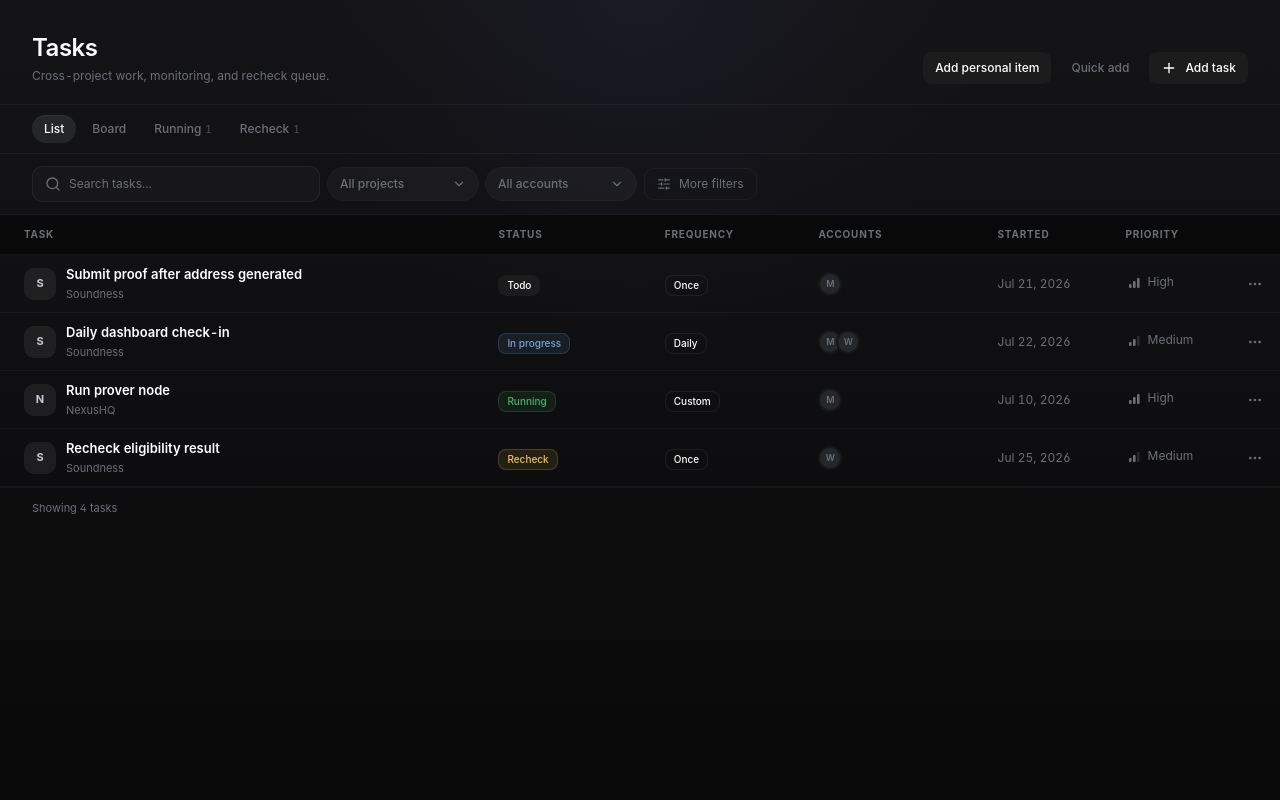
Test: TasksPreview › opens the full Add Task modal and creates a linked Deadline
Click the button "Add task" at (1199,68), box [1149,52,1248,84]
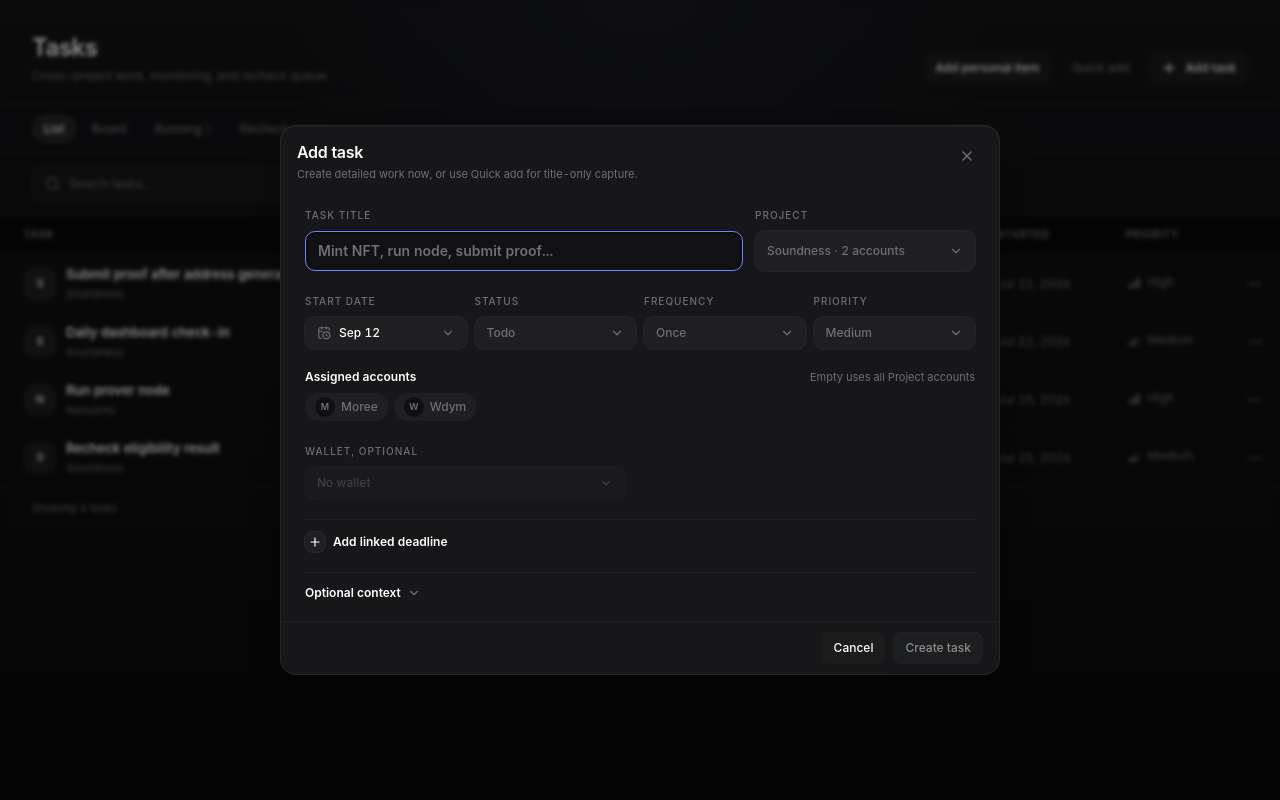
Expected: the dialog "Add task" is shown
Expected: the button with aria-label "Project" is shown, [755,230,975,270]
Type "Mint allowlist NFT" into the field with placeholder "Mint NFT, run node, submit proof..." at (524,250), box [305,230,743,270]
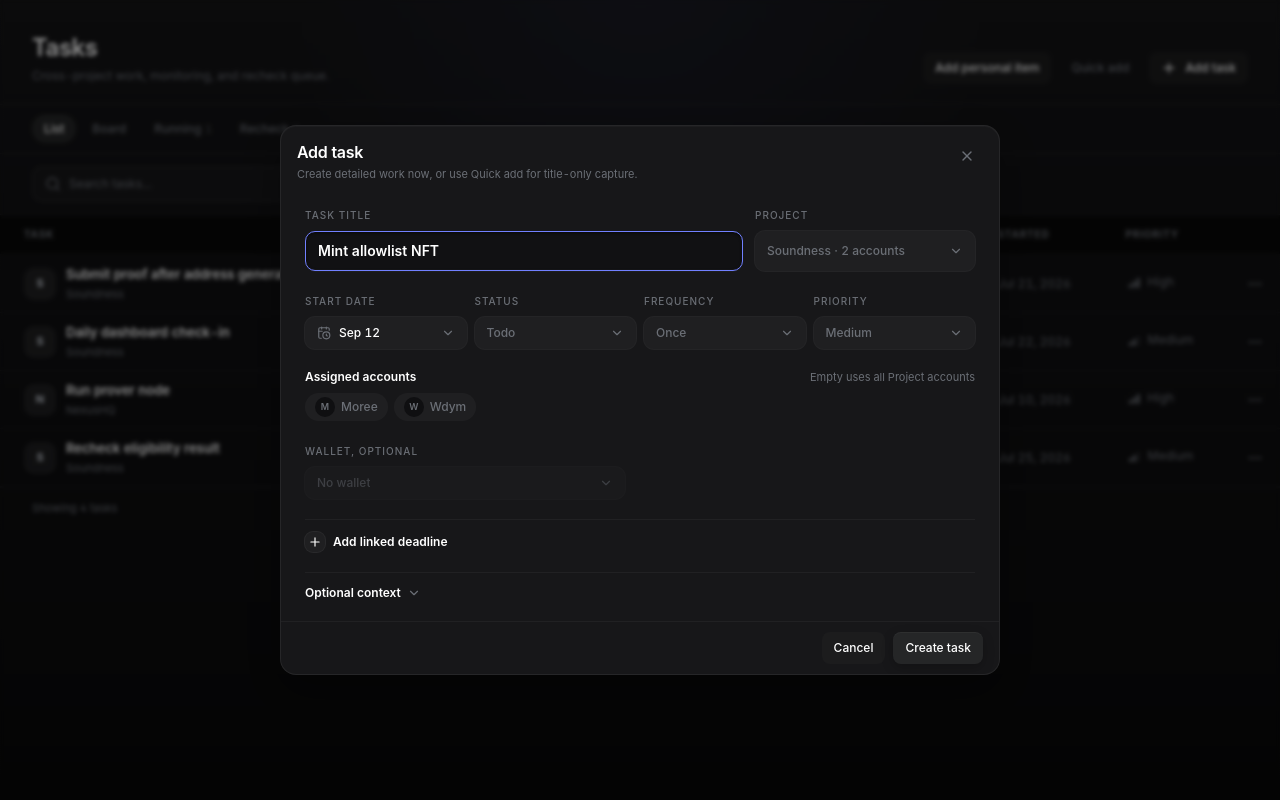
Click the button "Add linked deadline" at (376,542), box [305,532,448,552]
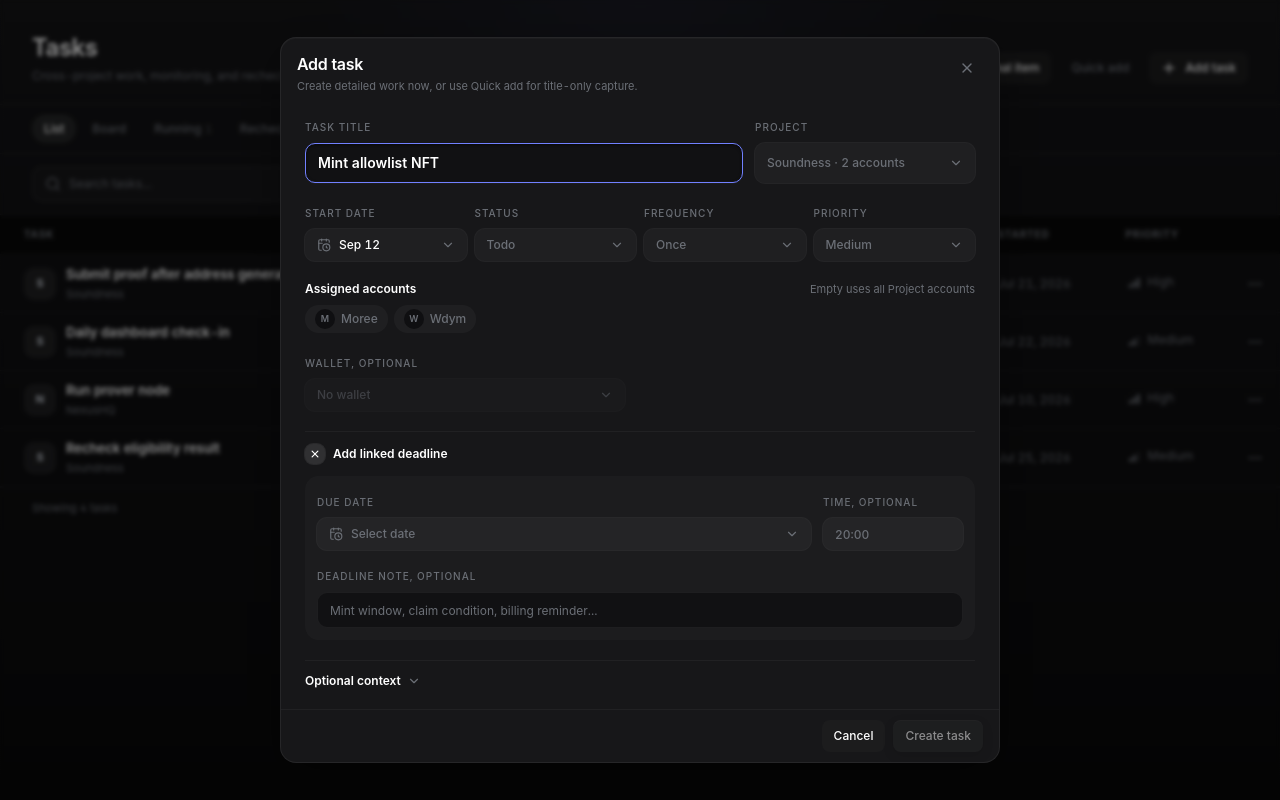
Click the button with aria-label "Due date" at (383,534), box [317,518,811,550]
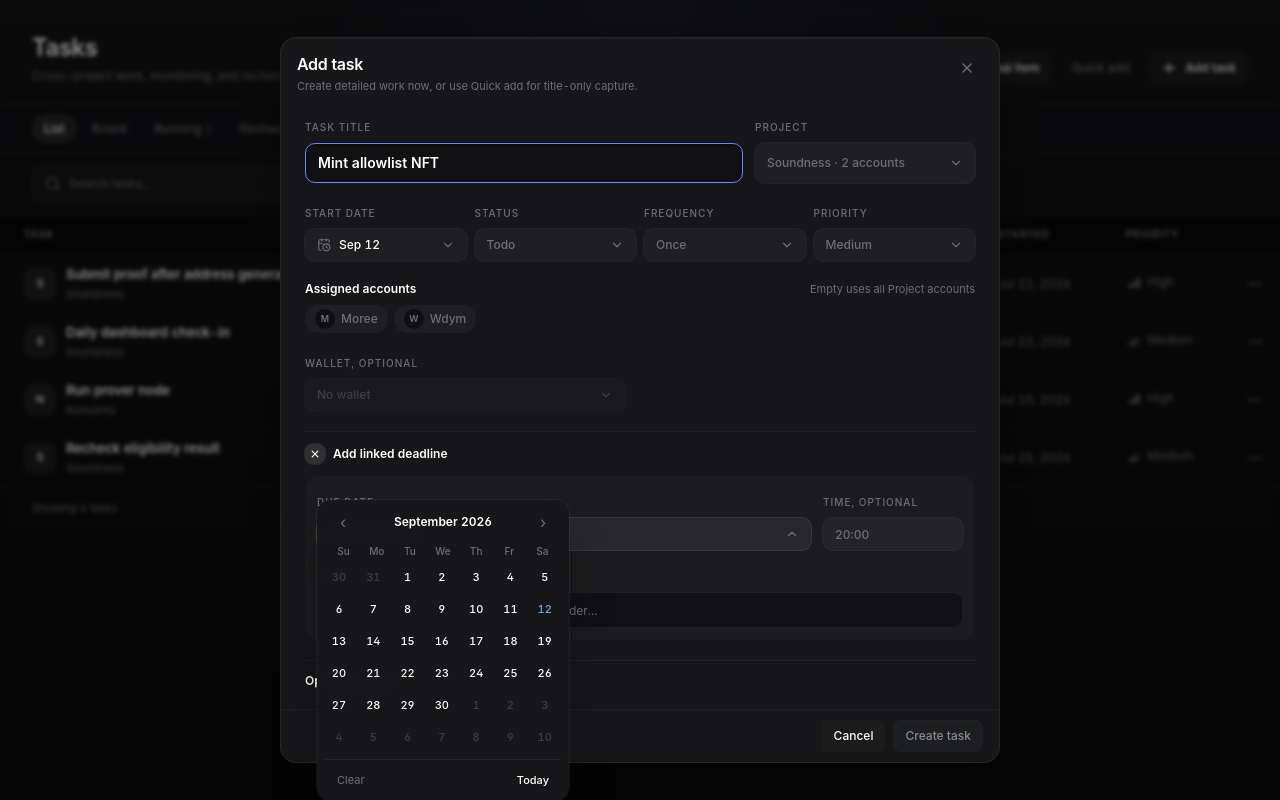
Click the button "Today" at (533,780), box [509,768,557,792]
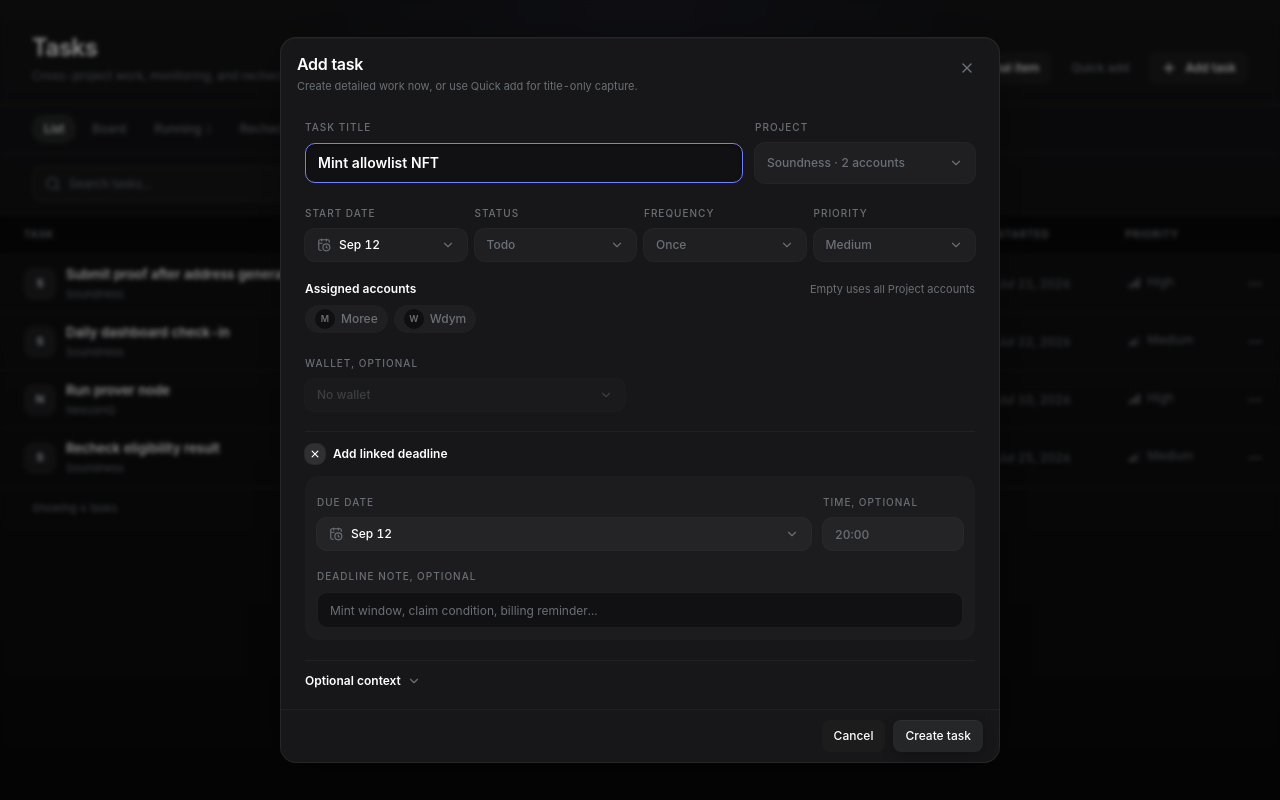
Click the button "Create task" at (938,736), box [893,720,983,752]
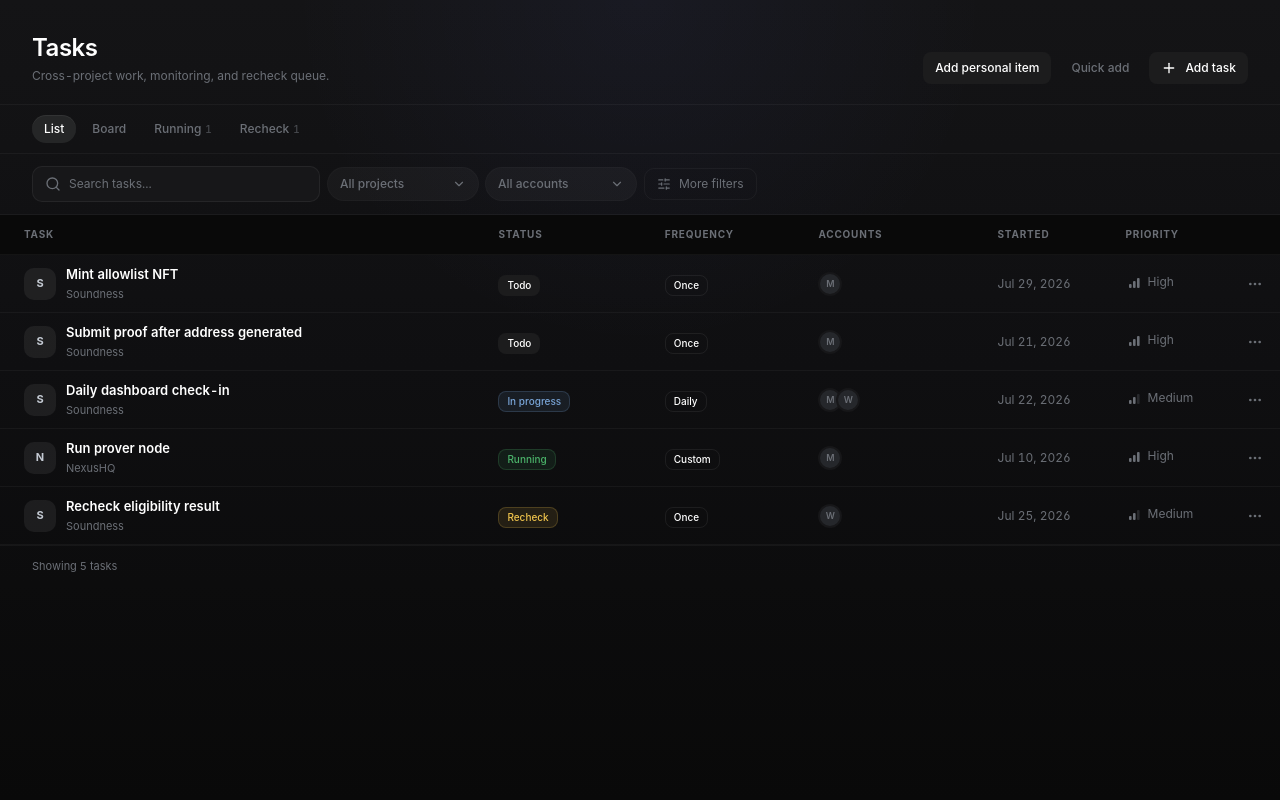
Expected: the text "Mint allowlist NFT" is shown, [66,264,178,284]
